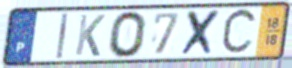7: (151, 12, 182, 56)
C: (219, 6, 259, 59)
I: (55, 12, 71, 60)
K: (73, 13, 107, 58)
O: (108, 9, 149, 60)
X: (179, 8, 225, 58)
